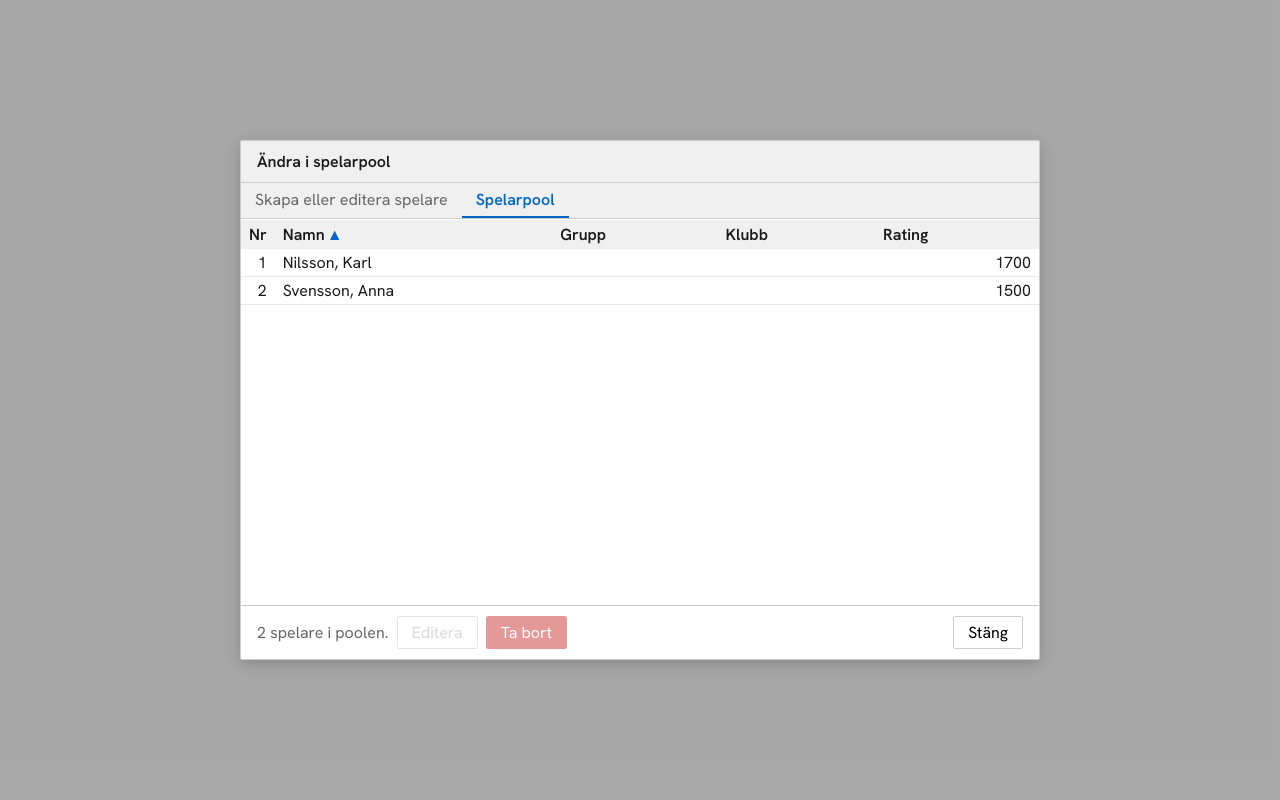
Scenario: PlayerPoolDialog add validation › shows error when adding player without any name
Click the button "Skapa eller editera spelare".
click(351, 200)  # box [241,183,462,218]
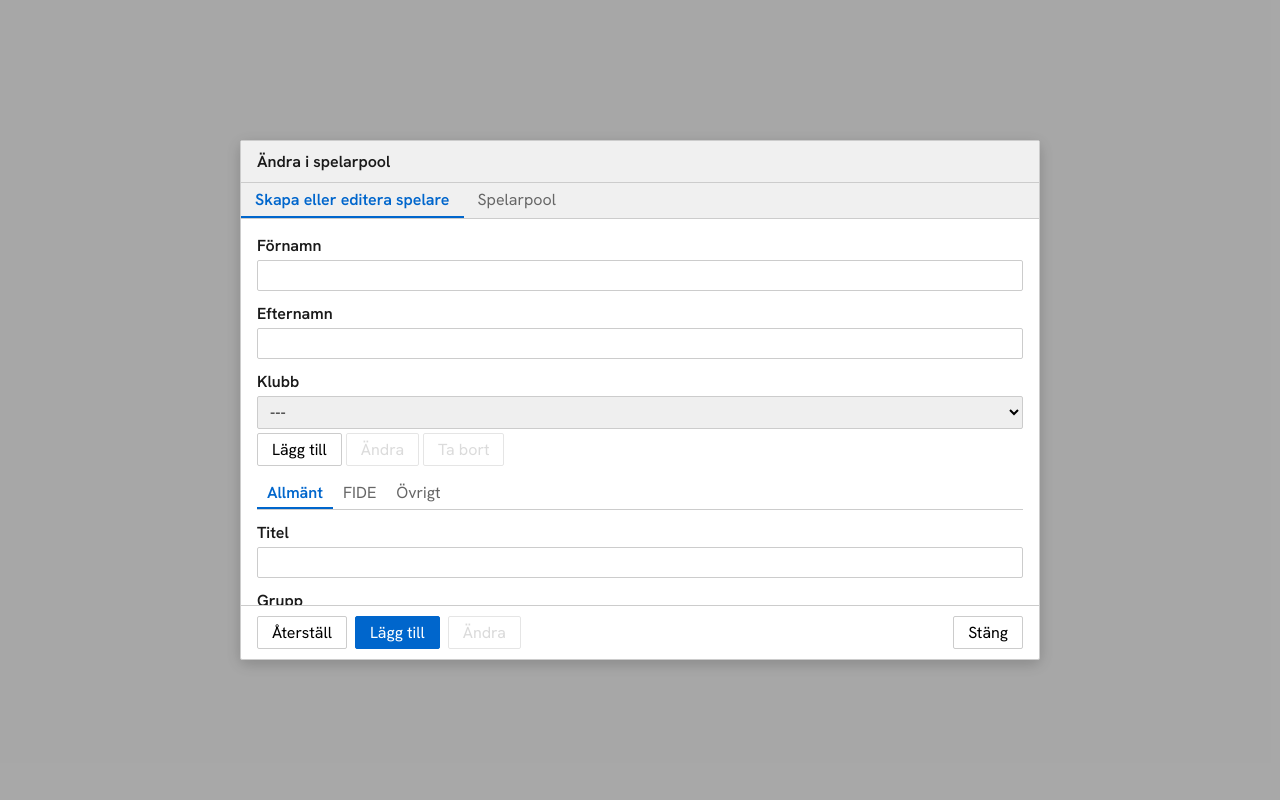
Click the 2nd button "Lägg till".
click(397, 632)  # box [355,616,440,649]
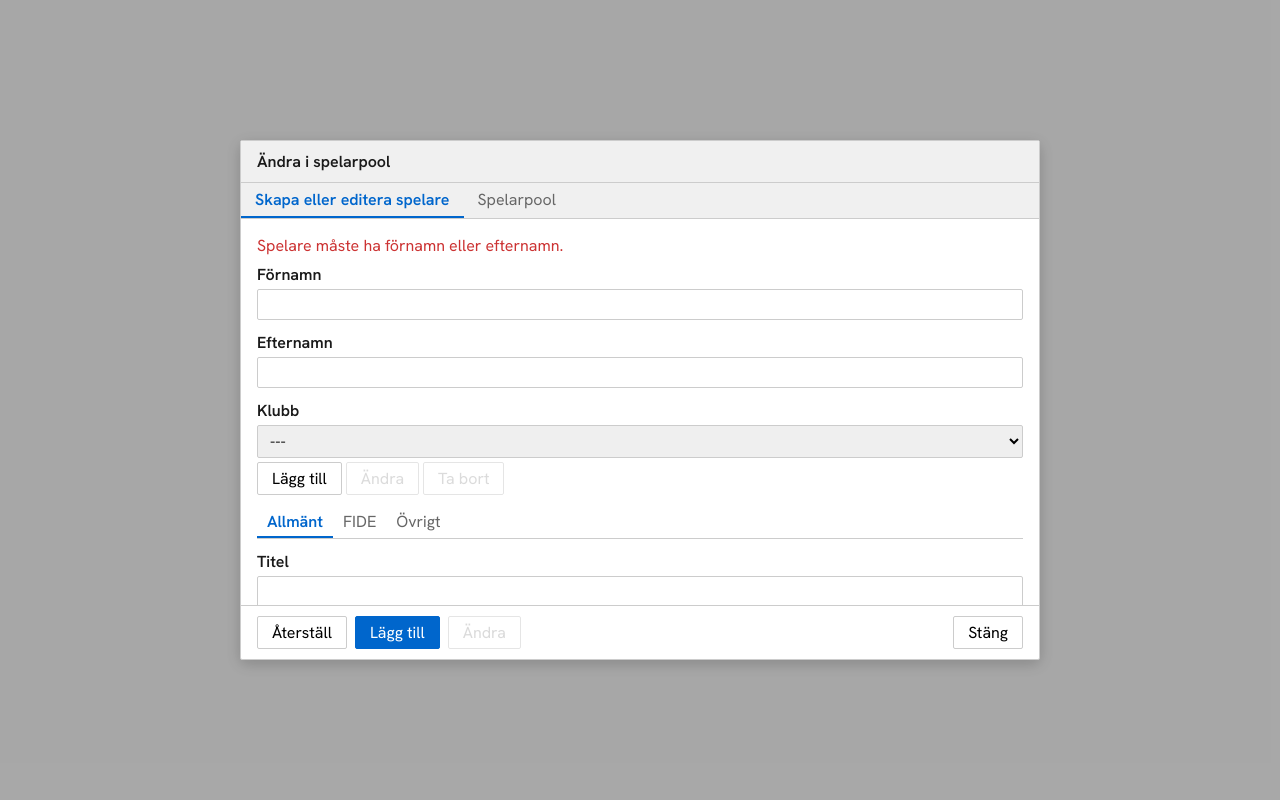
expect the text "Spelare måste ha förnamn eller efternamn." is shown: met, box [257,235,563,256]
